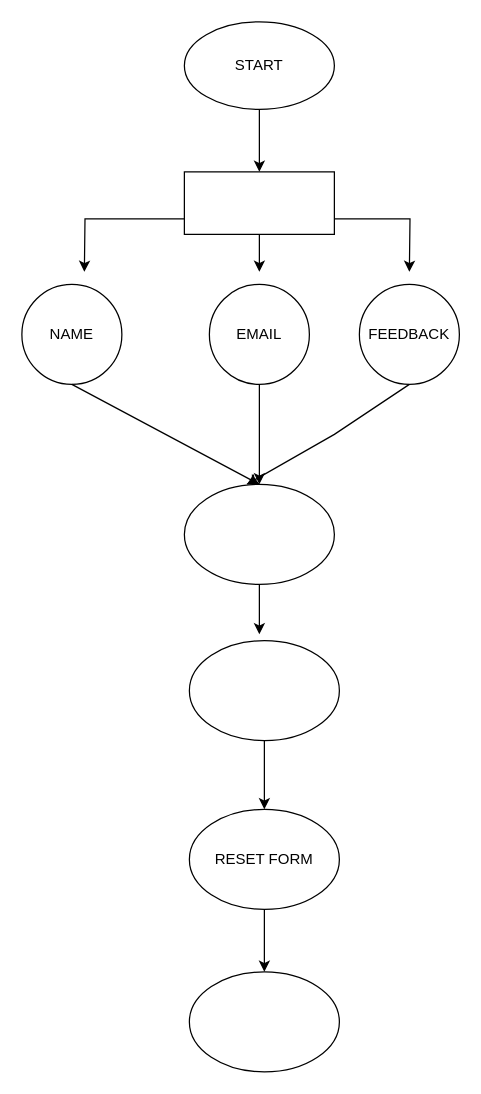
This 481x1094 diagram has some shape labels left out. Each missing label, with the box of its shape:
FEEDBACK PAGE: (183, 171, 334, 234)
SUBMIT: (183, 483, 334, 584)
SUCCESS MESSAGE: (188, 639, 339, 741)
